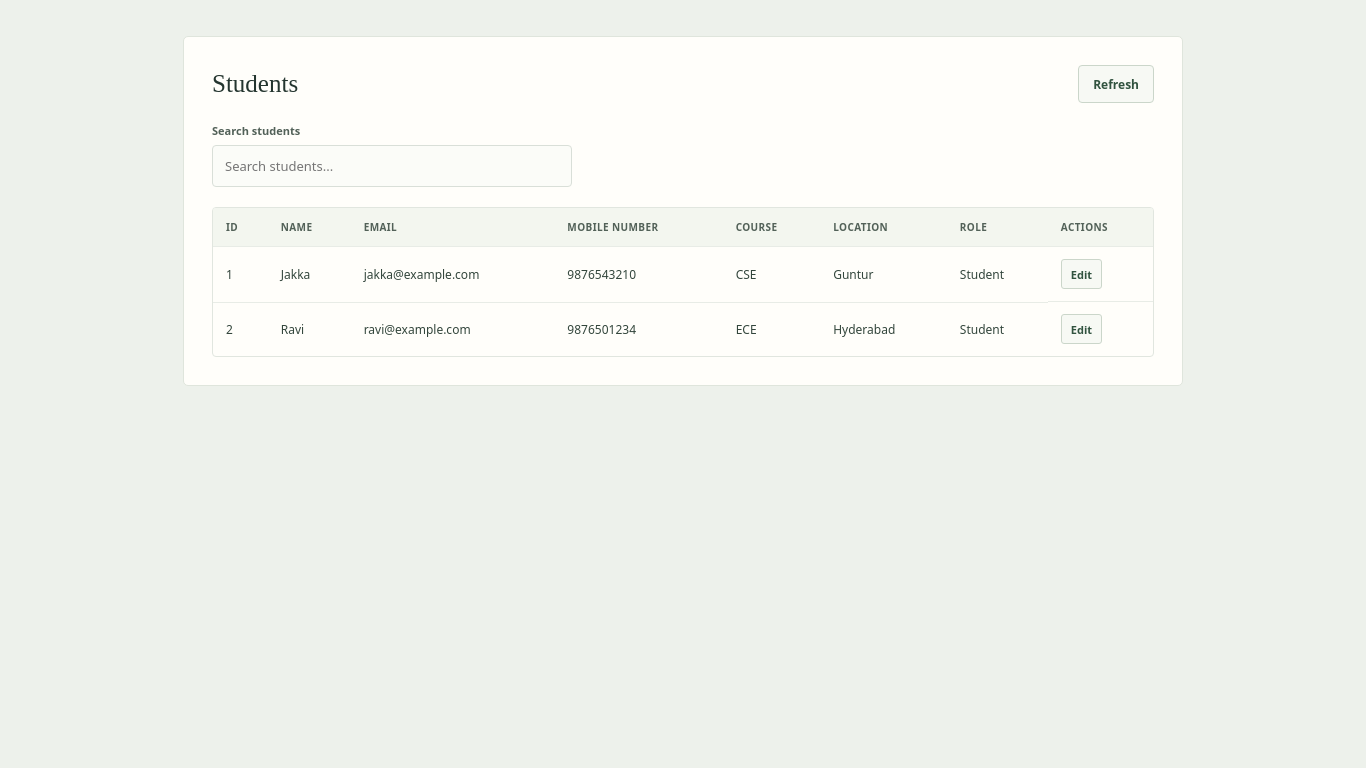
Test: StudentsTable › opens the edit form
expect the text "Jakka" is shown: met, box [268,246,351,302]
Click the button "Edit" in the row of "jakka@example.com".
click(1081, 274)  # box [1061,259,1102,289]
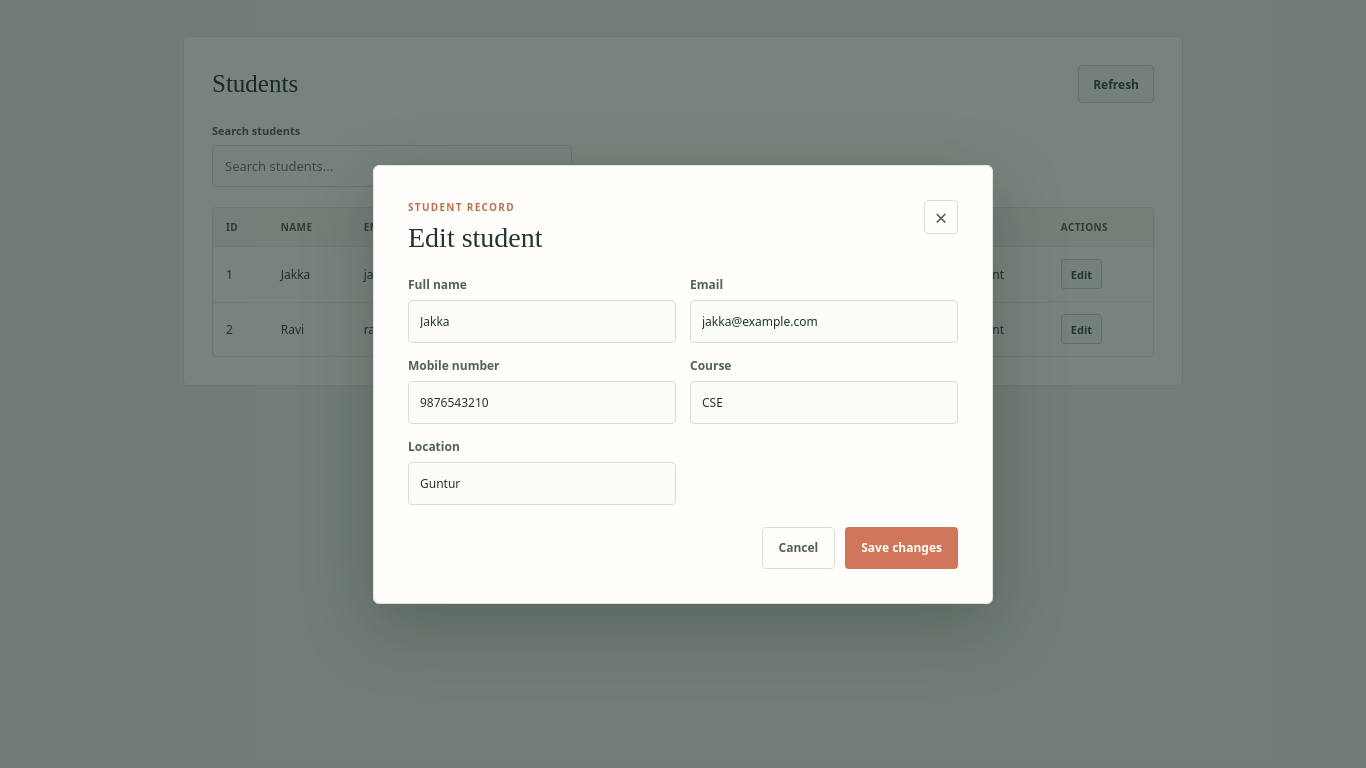
expect the heading "Edit student" is shown: met, box [408,222,542,254]
expect the field labelled "Full name" is shown: met, box [408,300,676,342]
expect the field labelled "Email" is shown: met, box [690,300,958,342]
